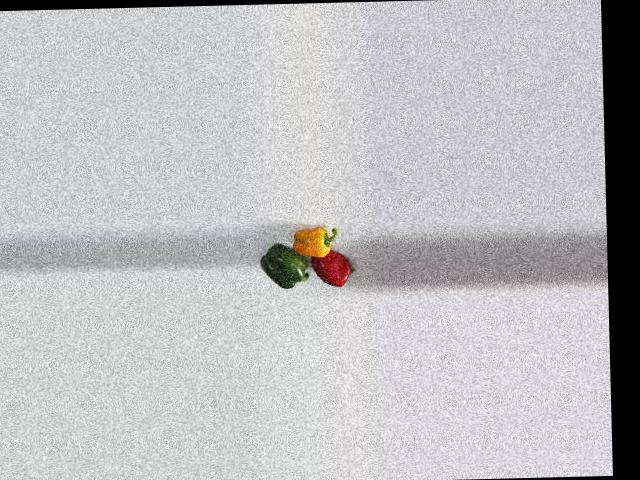bell_pepper: (292, 223, 338, 264)
